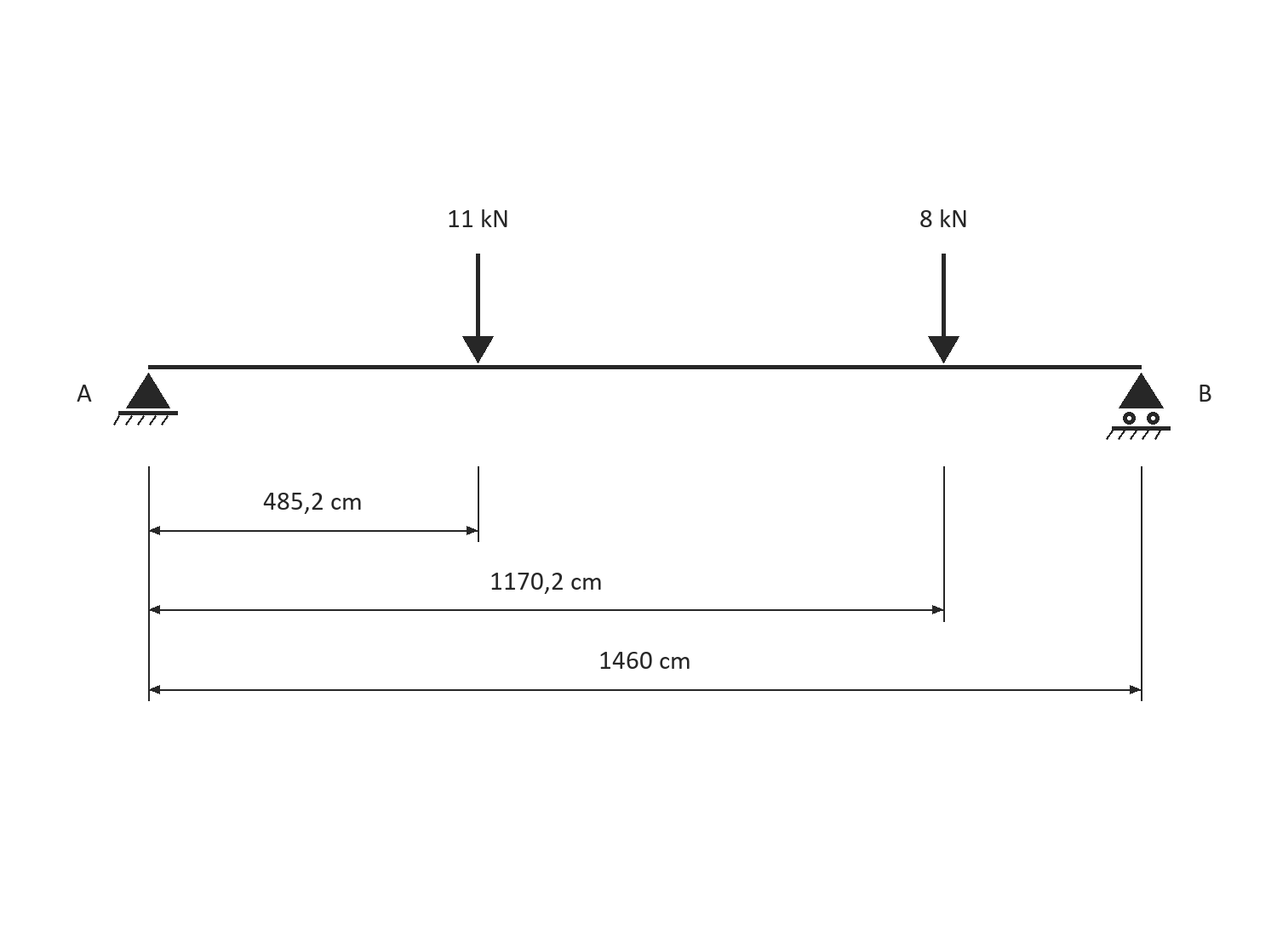pin_support: (113, 373, 178, 425)
point_load: (462, 254, 494, 363), (928, 254, 959, 363)
roller_support: (1106, 373, 1171, 440)
